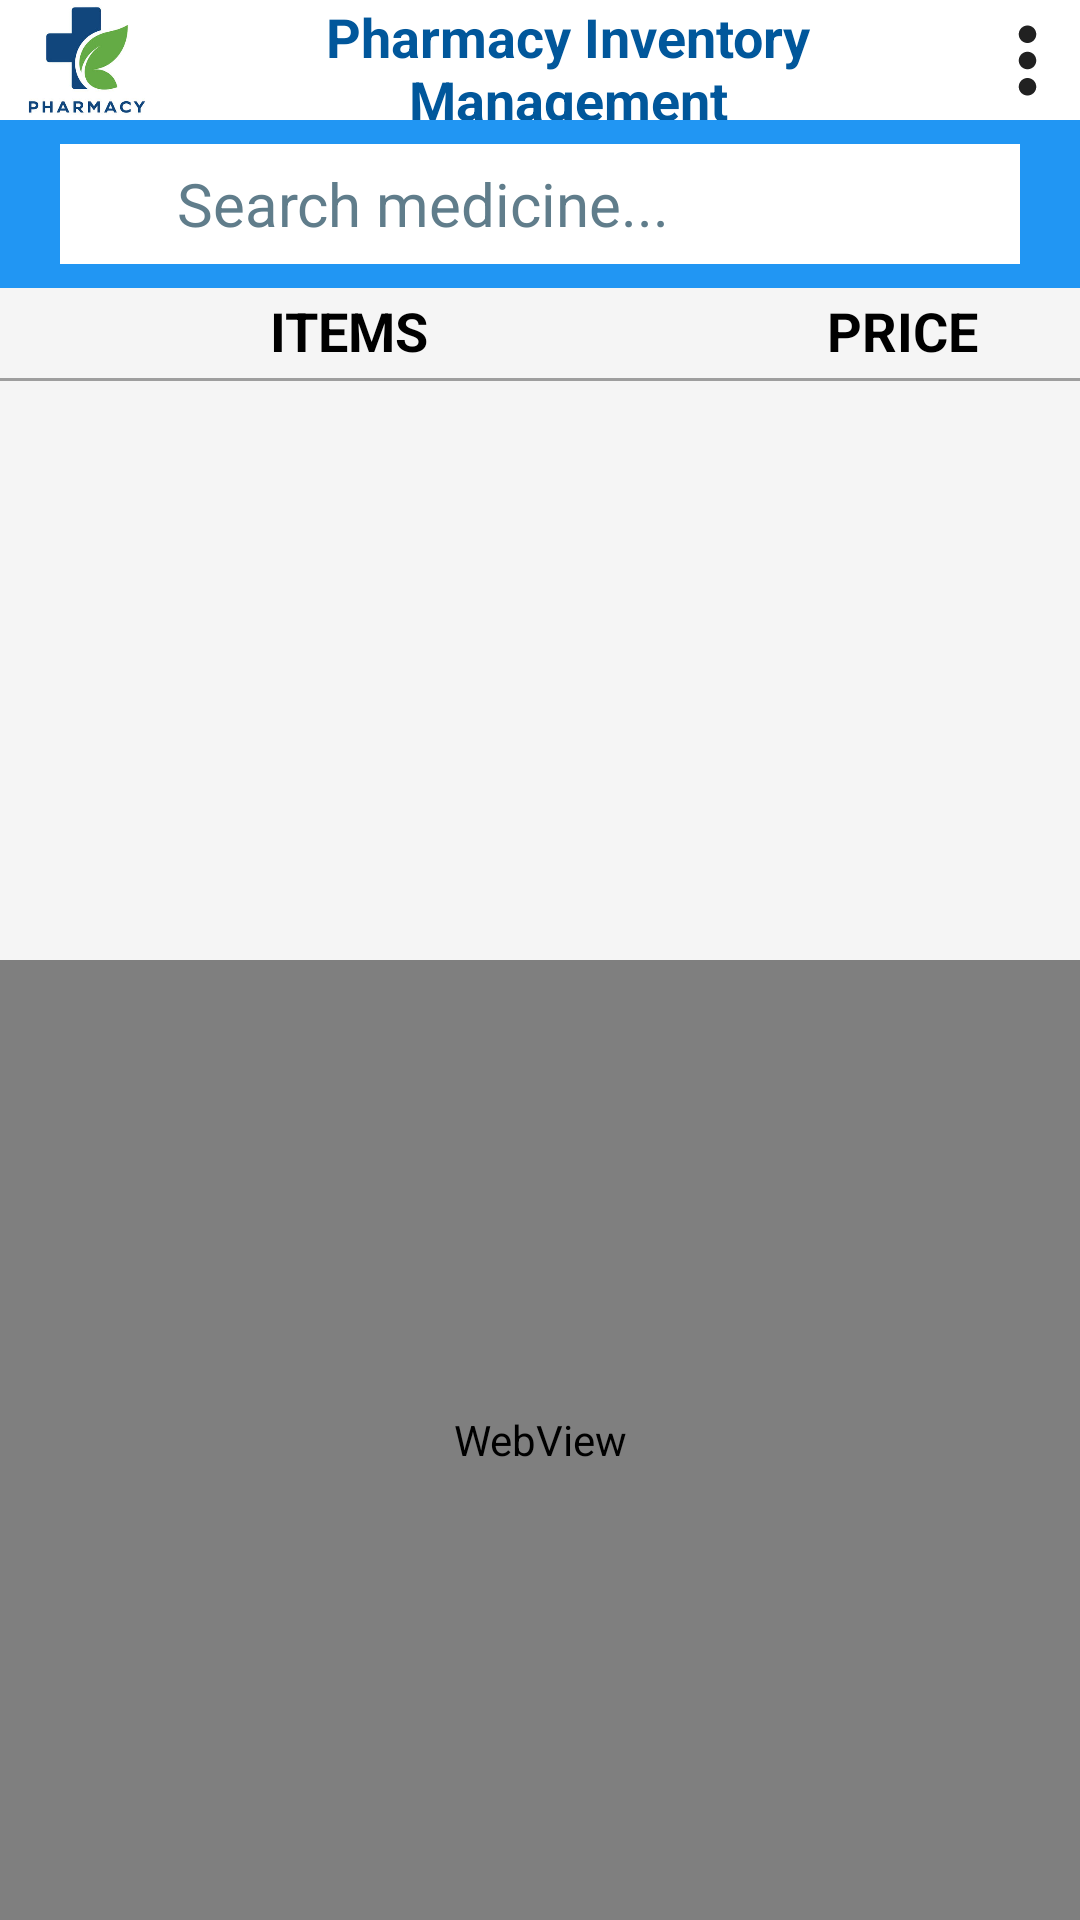

Screen size 1080 × 1920. Icon name, then its center in pixels as (x=x, y=y):
more vert round: (x=1027, y=60)
